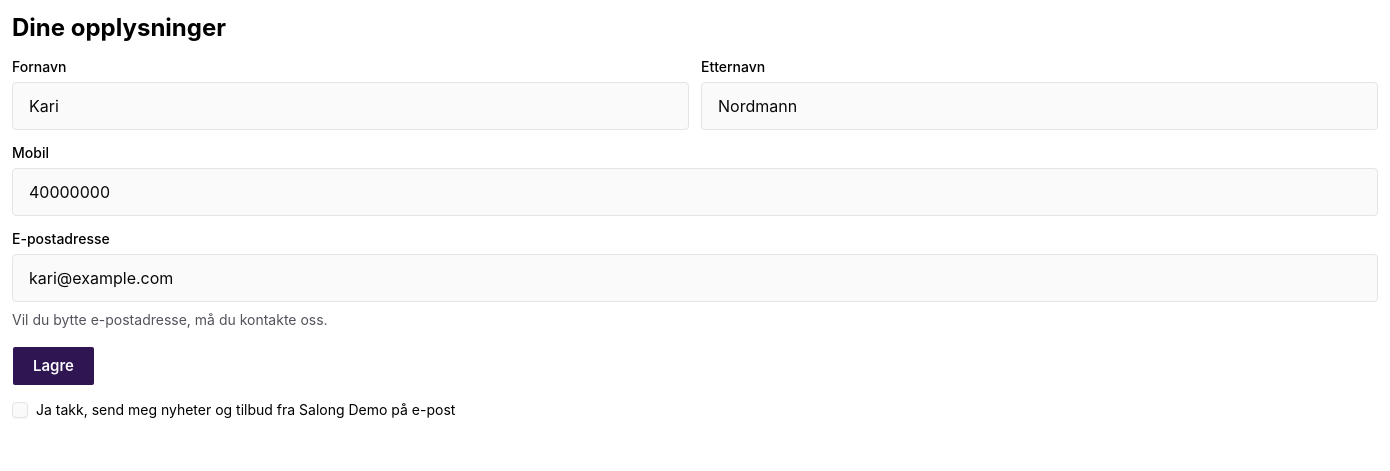
it: ProfileForm › says «saved» when a cleared name was genuinely cleared on file too
Clear the field labelled "Etternavn". click: (1040, 106)
box: [701, 82, 1378, 130]
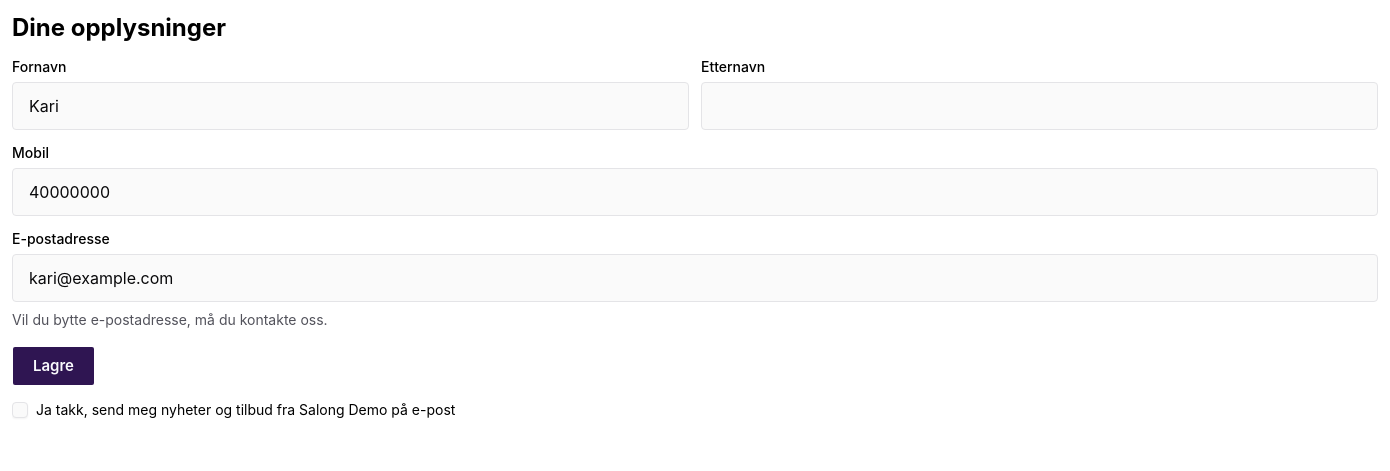
Click the button "Lagre". click: (54, 366)
box: [12, 346, 95, 386]
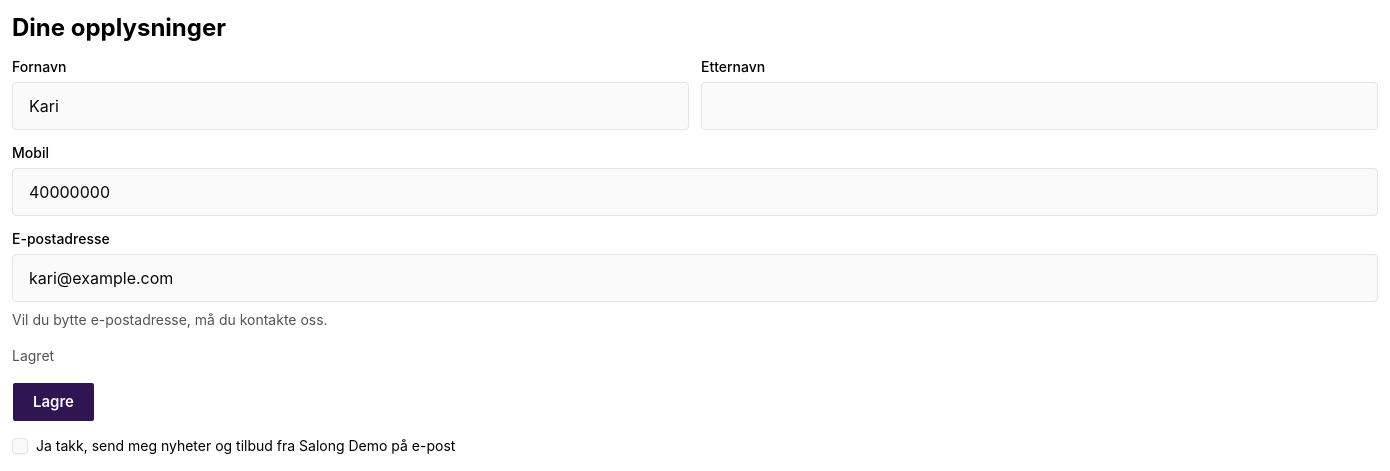
Check: the text "Lagret" is shown, box [12, 347, 54, 364]
